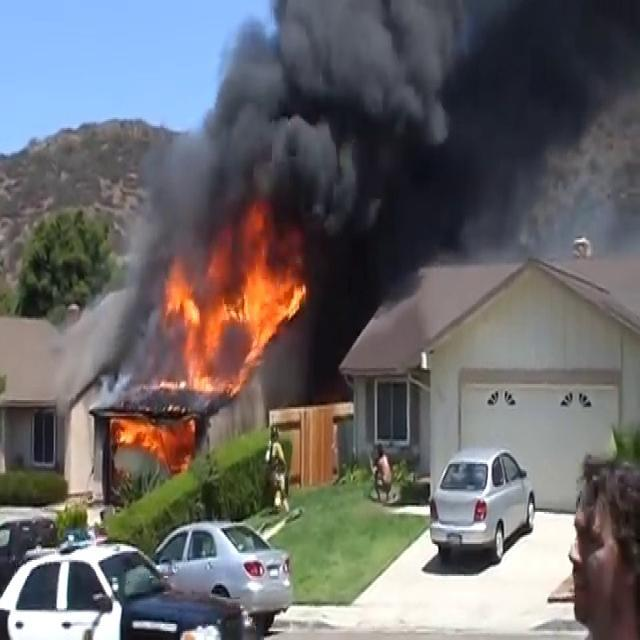Fire: (162, 221, 304, 392), (110, 413, 170, 461)
Smoke: (156, 0, 638, 281)
